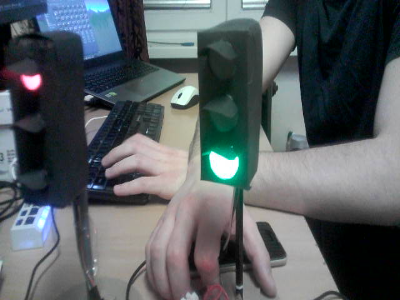trafficlight_green: (201, 33, 249, 181)
trafficlight_red: (13, 43, 63, 200)
